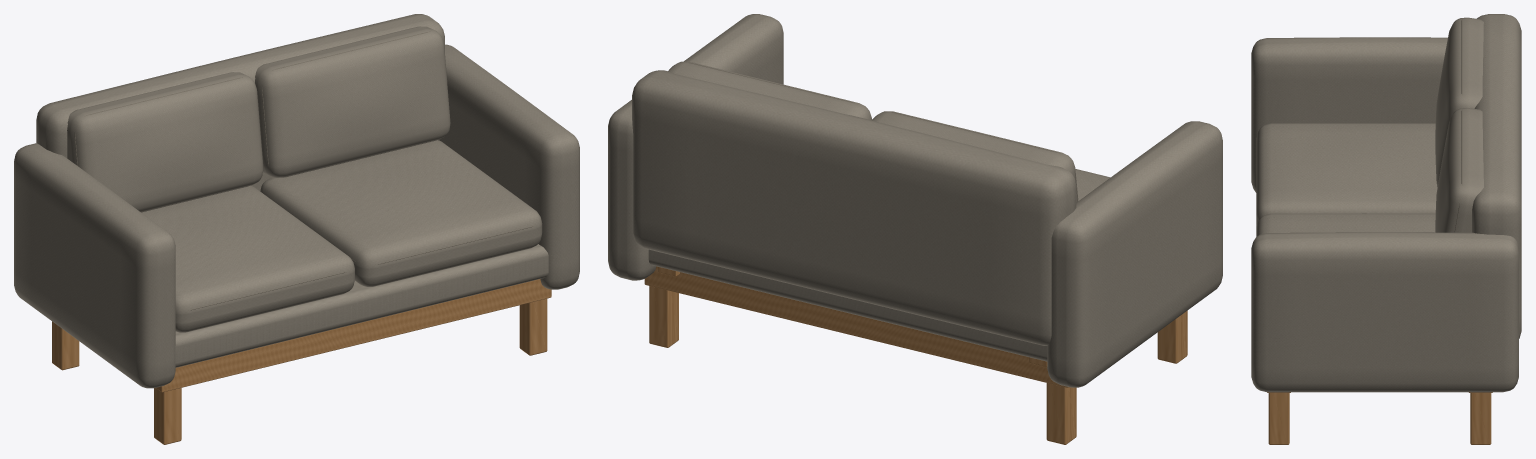
File: sofa.glb
3 views of the same model, side by side, from view 1: azimuth 30°, elevation 25°; view 2: azimuth 150°, elevation 25°; view 3: azimuth 270°, elevation 25° (orthographic). The views are drawn at different scales.
Visible parts, largest first — view 1: Upholstered arm -0.663, Seat cushion 1, Back cushion 1, Back cushion 0, Seat cushion 0, Upholstered arm 0.663, Upholstered lower frame, Lower cross rail -0.3, Upholstered back shell, Sofa leg (0.6, -0.3), Sofa leg (-0.6, -0.3), Sofa leg (-0.6, 0.28); view 2: Upholstered back shell, Upholstered arm -0.663, Upholstered arm 0.663, Lower cross rail 0.28, Upholstered lower frame, Back cushion 0, Back cushion 1, Sofa leg (-0.6, 0.28), Sofa leg (0.6, 0.28), Sofa leg (-0.6, -0.3), Seat cushion 0; view 3: Upholstered arm 0.663, Upholstered arm -0.663, Seat cushion 0, Upholstered back shell, Back cushion 1, Back cushion 0, Seat cushion 1, Sofa leg (0.6, -0.3), Sofa leg (0.6, 0.28).
Part boxes in pixels (bbox=[...]): Upholstered arm -0.663: bbox=[14, 143, 175, 388]; Seat cushion 1: bbox=[260, 140, 542, 286]; Back cushion 1: bbox=[255, 26, 450, 177]; Back cushion 0: bbox=[67, 72, 263, 212]; Seat cushion 0: bbox=[141, 185, 354, 332]; Upholstered arm 0.663: bbox=[438, 44, 579, 289]; Upholstered lower frame: bbox=[175, 244, 548, 367]; Lower cross rail -0.3: bbox=[156, 279, 551, 392]; Upholstered back shell: bbox=[36, 14, 444, 190]; Sofa leg (0.6, -0.3): bbox=[519, 298, 547, 355]; Sofa leg (-0.6, -0.3): bbox=[154, 388, 181, 444]; Sofa leg (-0.6, 0.28): bbox=[52, 321, 79, 370]; Upholstered back shell: bbox=[632, 70, 1076, 345]; Upholstered arm -0.663: bbox=[1047, 121, 1222, 387]; Upholstered arm 0.663: bbox=[608, 14, 783, 280]; Lower cross rail 0.28: bbox=[644, 266, 1068, 387]; Upholstered lower frame: bbox=[648, 249, 1047, 361]; Back cushion 0: bbox=[872, 111, 1078, 202]; Back cushion 1: bbox=[668, 61, 871, 120]; Sofa leg (-0.6, 0.28): bbox=[1046, 383, 1076, 444]; Sofa leg (0.6, 0.28): bbox=[649, 286, 678, 347]; Sofa leg (-0.6, -0.3): bbox=[1157, 310, 1187, 363]; Seat cushion 0: bbox=[1075, 169, 1110, 200]; Upholstered arm 0.663: bbox=[1251, 232, 1518, 392]; Upholstered arm -0.663: bbox=[1251, 37, 1447, 192]; Seat cushion 0: bbox=[1256, 123, 1437, 225]; Upholstered back shell: bbox=[1472, 14, 1521, 338]; Back cushion 1: bbox=[1435, 108, 1483, 232]; Back cushion 0: bbox=[1435, 17, 1483, 187]; Seat cushion 1: bbox=[1256, 213, 1435, 236]; Sofa leg (0.6, -0.3): bbox=[1268, 393, 1289, 444]; Sofa leg (0.6, 0.28): bbox=[1470, 393, 1491, 444].
Size of the model in its own units: 1.45 by 0.7968 by 0.7775.
6 materials, 4 textured.
